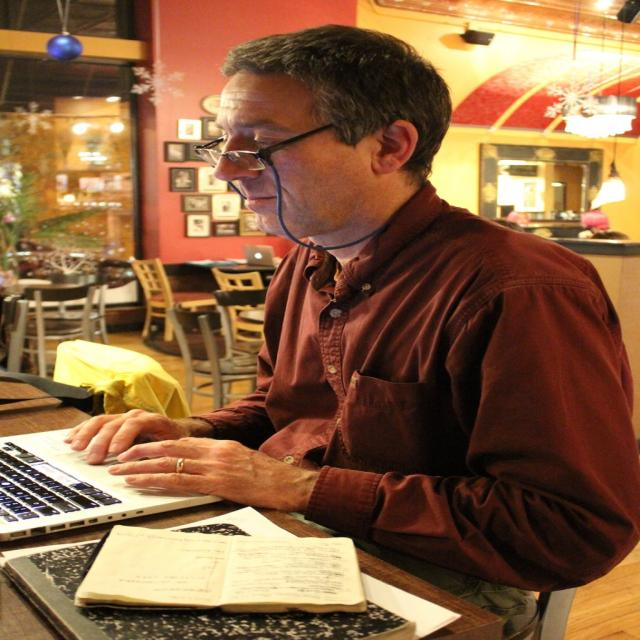chair: (167, 304, 258, 414), (10, 284, 109, 378), (130, 258, 216, 348), (214, 288, 266, 362), (211, 265, 266, 292)
desk: (6, 380, 499, 638)
laptop: (0, 428, 227, 542)
person: (44, 26, 636, 634)
